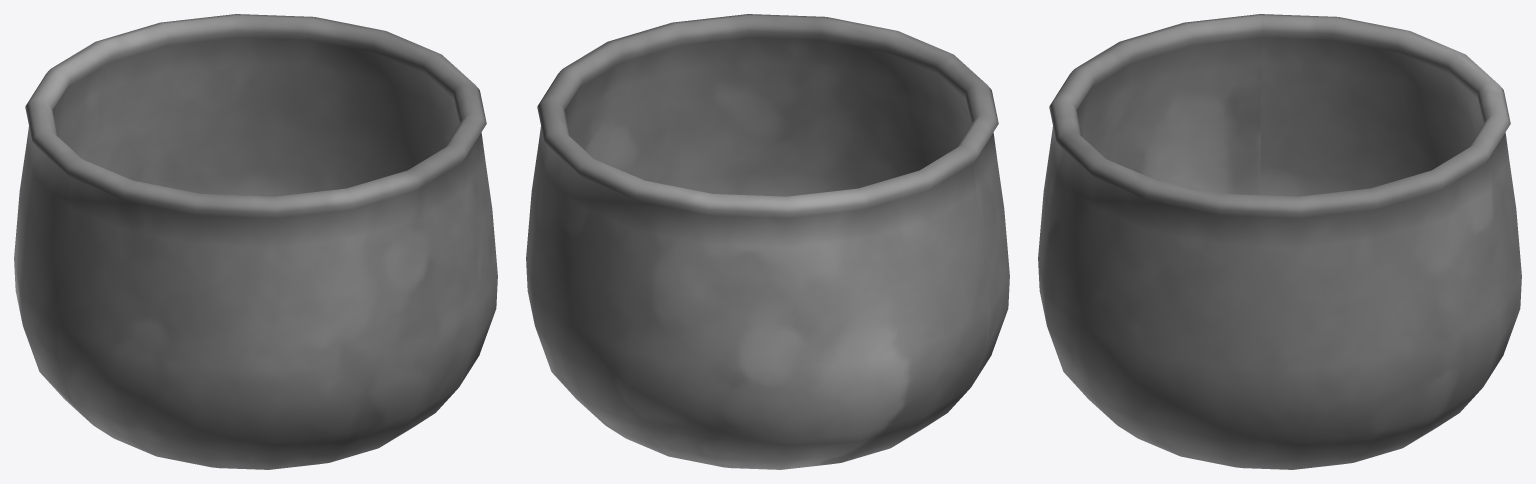
The model's file is SM_Bowl_01a.fbx.
3 views of the same model, side by side, from view 1: azimuth 30°, elevation 25°; view 2: azimuth 150°, elevation 25°; view 3: azimuth 270°, elevation 25° (orthographic).
Parts seen in each view (by area): view 1: SM_Bowl_01a_LOD0; view 2: SM_Bowl_01a_LOD0; view 3: SM_Bowl_01a_LOD0.
Boxes of the visible parts, x1,y1,x2,y2 form: SM_Bowl_01a_LOD0: [14, 14, 497, 469]; SM_Bowl_01a_LOD0: [526, 14, 1009, 469]; SM_Bowl_01a_LOD0: [1038, 14, 1521, 469].
Size of the model in its own units: 22.22 by 22.22 by 16.12.
